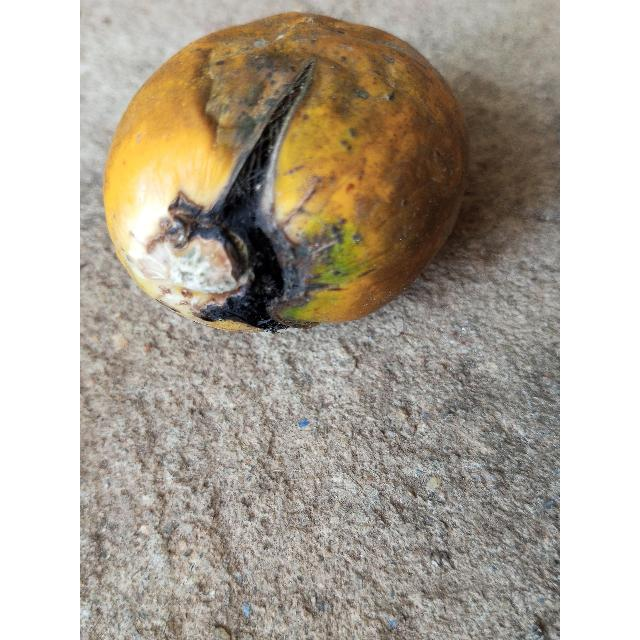damaged: (102, 11, 470, 332)
